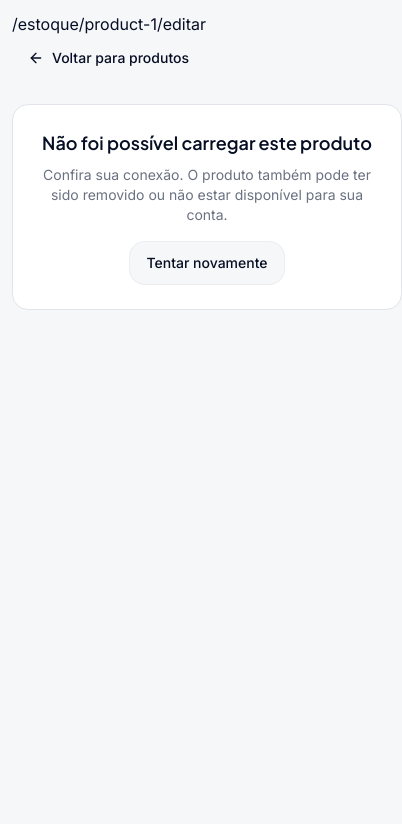
Test: stock product page navigation and saving › shows a recoverable load error instead of a blank edit form
The width and height of the screenshot is (402, 824).
Check: the message shows "Não foi possível carregar este produto", box [42,131,372,154]
What coordinates should you click on to do the following:
click the button "Tentar novamente"
I would click on:
 (207, 263)
Its box is [130,241,285,285].
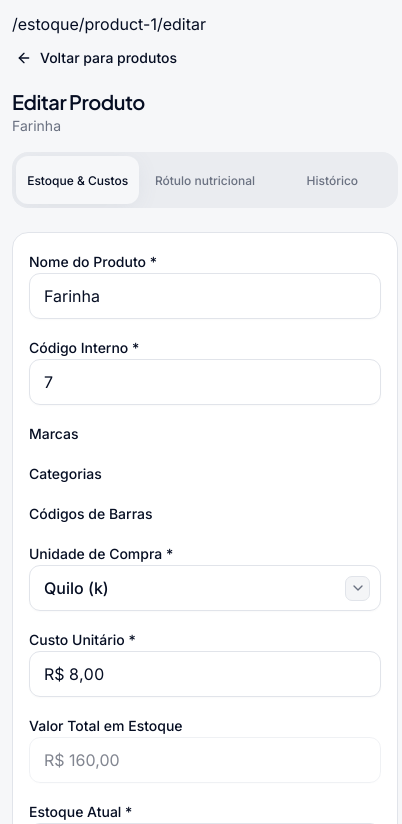
Check: the field labelled "Nome do Produto *" holds "Farinha", box [29,273,381,319]
